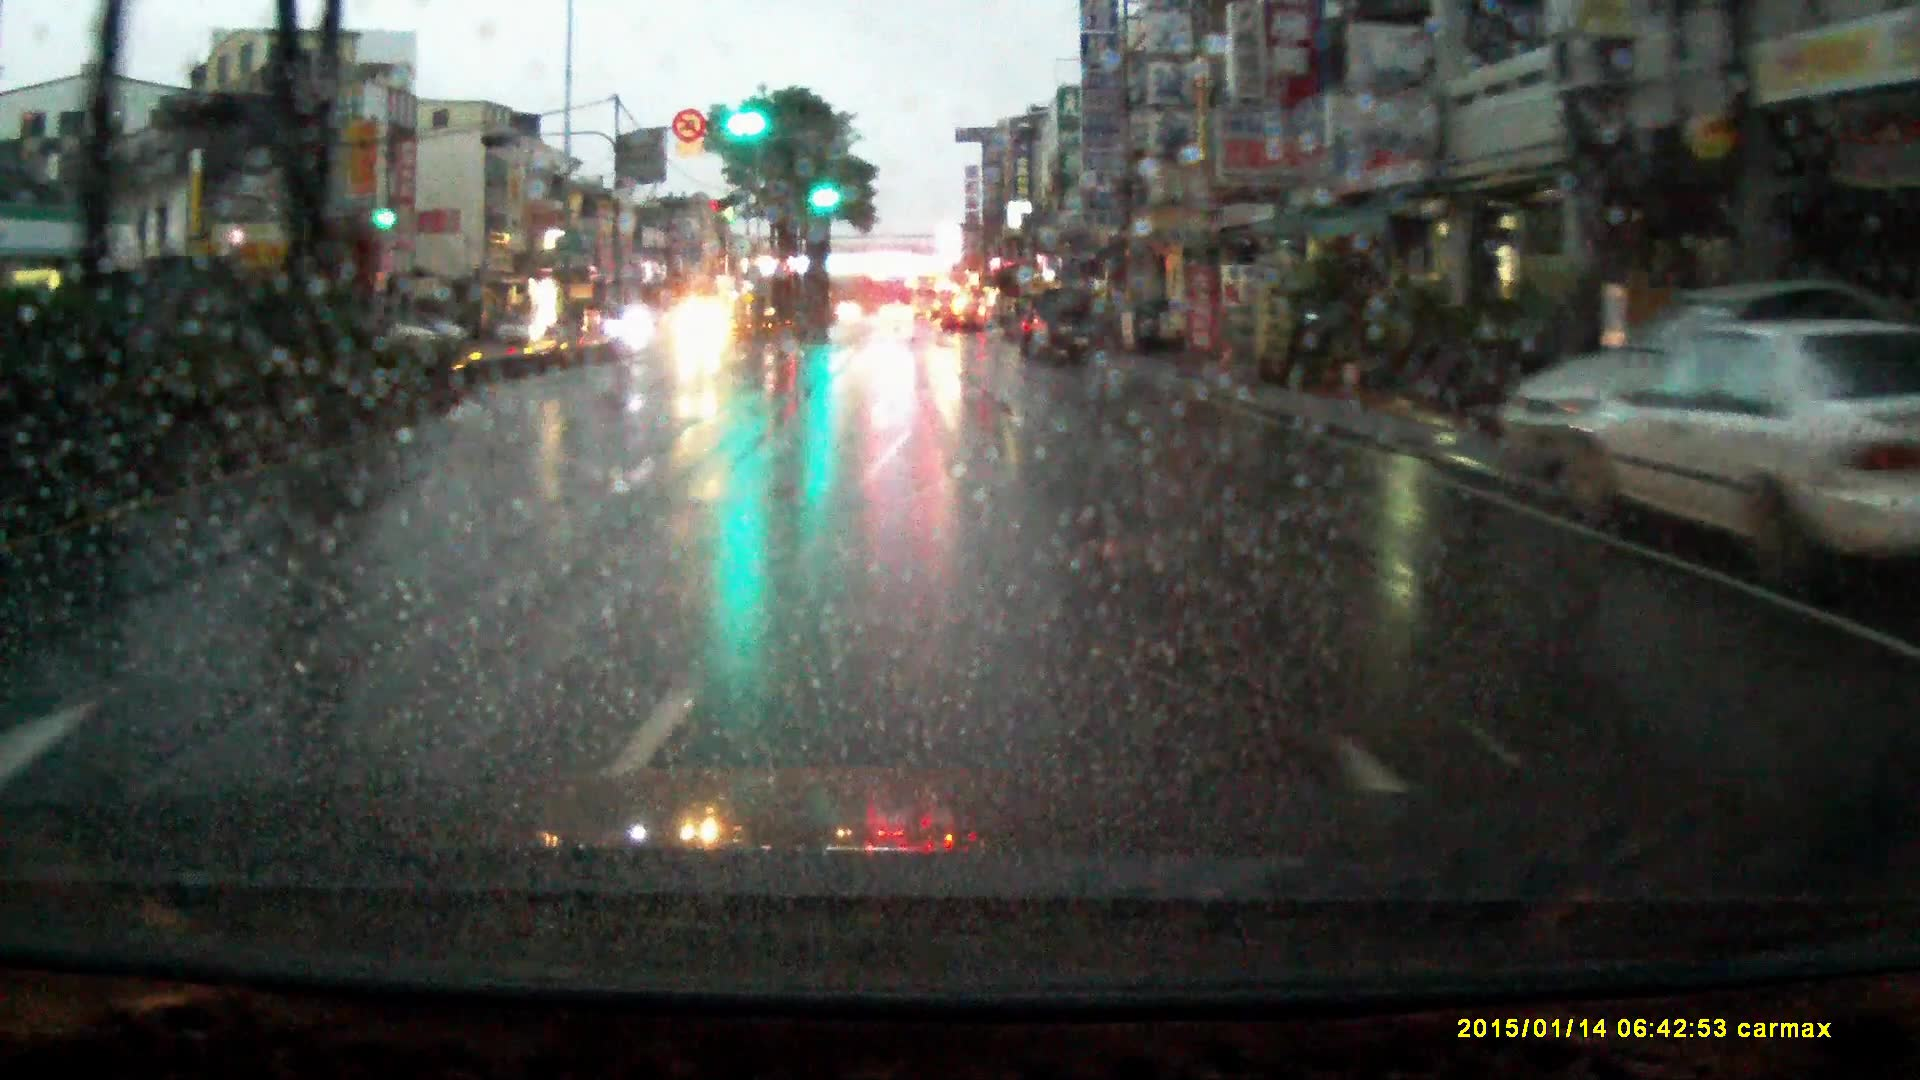vehicle: (1571, 330, 1886, 615), (1484, 280, 1847, 498), (1017, 284, 1101, 367), (669, 301, 738, 351), (599, 302, 661, 342), (491, 309, 551, 345), (942, 295, 988, 334), (910, 276, 943, 320), (880, 302, 916, 326)
